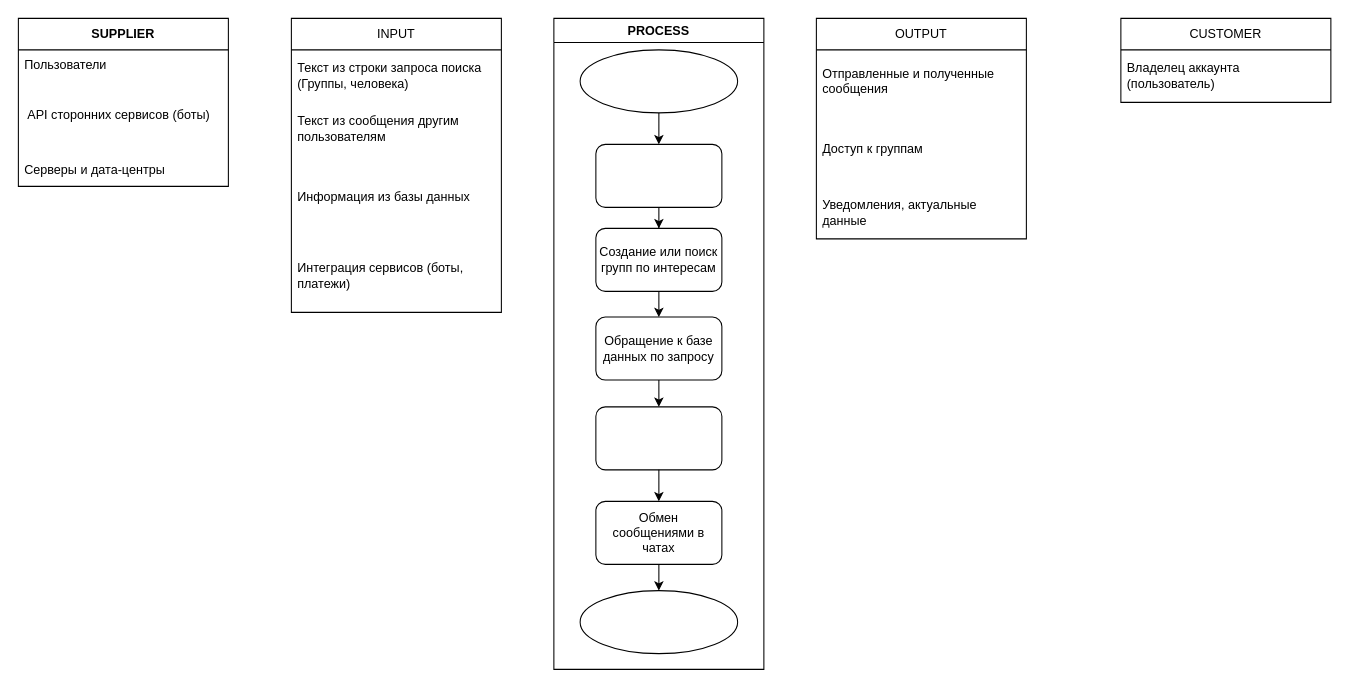
This 1349x688 diagram has some shape labels left out. The centre of each missing label's shape, as x and y in pixels:
"Выдача результата поиска" belongs at (x=658, y=438).
"Конец" belongs at (x=658, y=622).
"Регистрация или авторизация пользователя" belongs at (x=658, y=175).
"Старт" belongs at (x=658, y=81).
